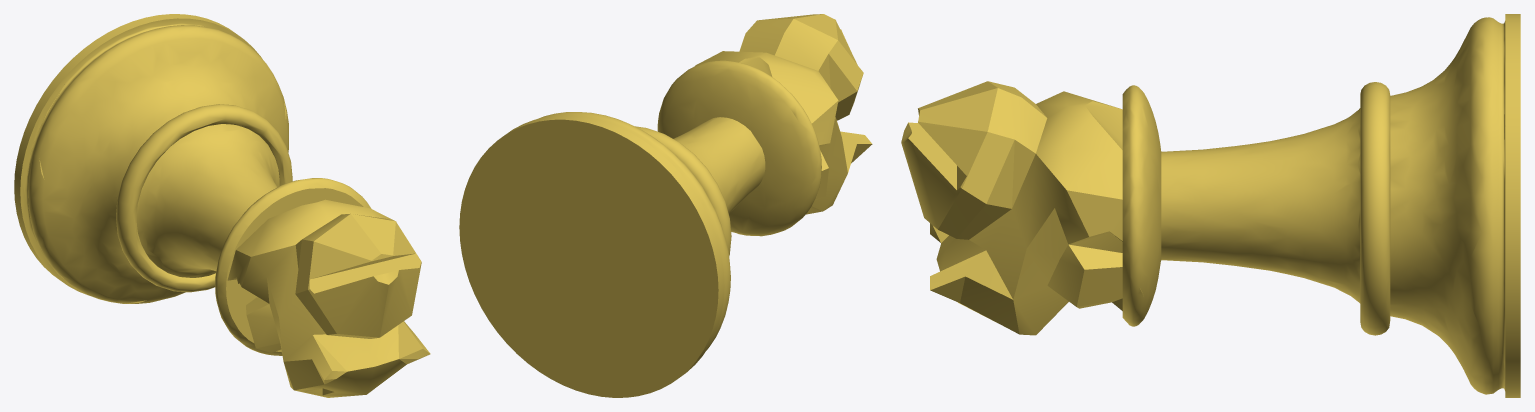
Rendered from Alfil.obj.
3 renders of one model, left to right at view 1: azimuth 30°, elevation 25°; view 2: azimuth 150°, elevation 25°; view 3: azimuth 270°, elevation 25°, orthographic. The views are drawn at different scales.
Visible parts, largest first — view 1: Bulbasaur_Bishop_2; view 2: Bulbasaur_Bishop_2; view 3: Bulbasaur_Bishop_2.
Part boxes in pixels (x1=…): Bulbasaur_Bishop_2: x1=14, y1=14, x2=430, y2=397; Bulbasaur_Bishop_2: x1=459, y1=14, x2=872, y2=397; Bulbasaur_Bishop_2: x1=901, y1=14, x2=1520, y2=397.
Size of the model in its own units: 32.05 by 32.05 by 51.68.
